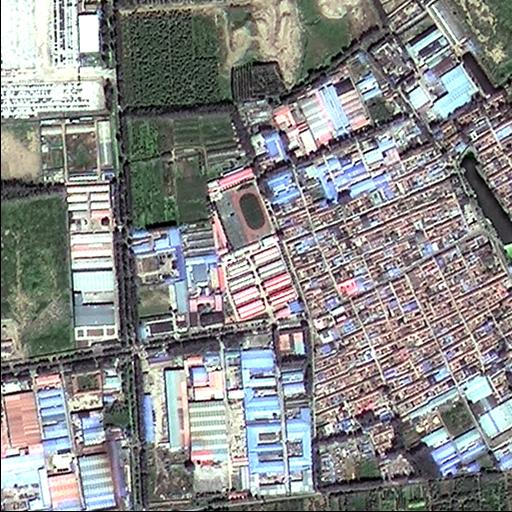school: (206, 164, 306, 325)
